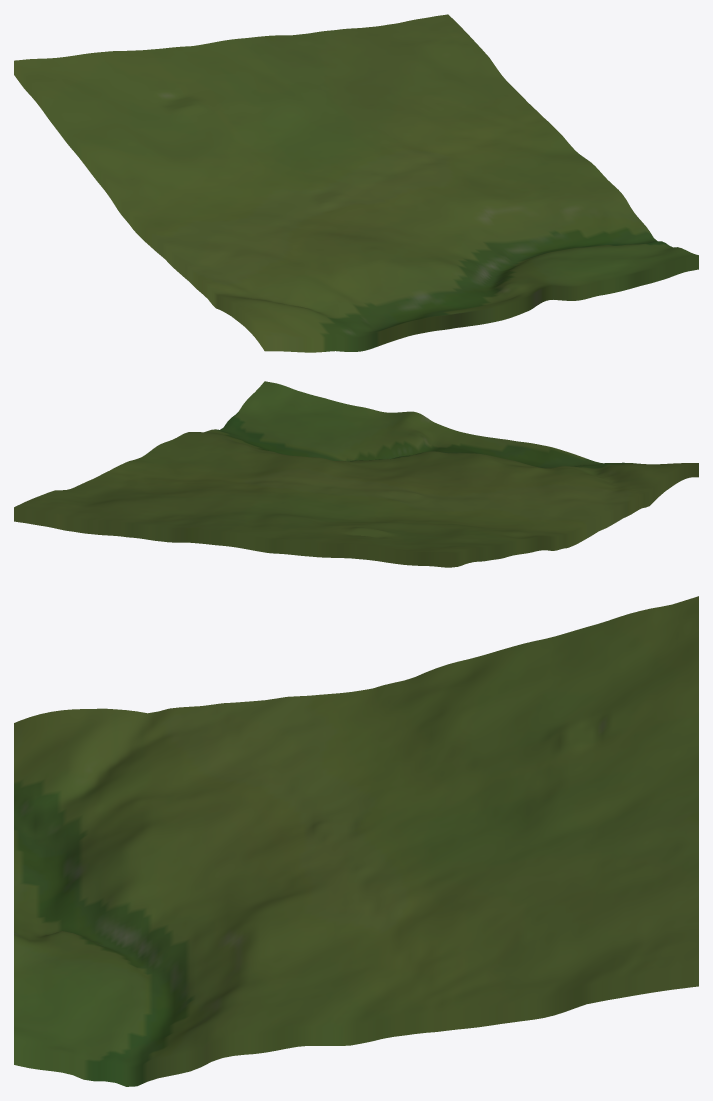
Rendered from terrain_7_-12.glb.
3 renders of one model, top to bottom at view 1: azimuth 30°, elevation 25°; view 2: azimuth 150°, elevation 25°; view 3: azimuth 270°, elevation 25°, orthographic. The views are drawn at different scales.
Parts seen in each view (by area): view 1: terrain_7_-12; view 2: terrain_7_-12; view 3: terrain_7_-12.
Boxes of the visible parts, x1=… form: terrain_7_-12: x1=14, y1=14, x2=698, y2=352; terrain_7_-12: x1=14, y1=381, x2=698, y2=567; terrain_7_-12: x1=14, y1=596, x2=698, y2=1086.
Size of the model in its own units: 256 by 83.07 by 256.
